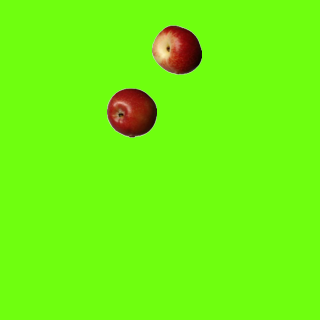Apple Braeburn: (106, 87, 156, 137)
Nectarine: (151, 24, 201, 74)
